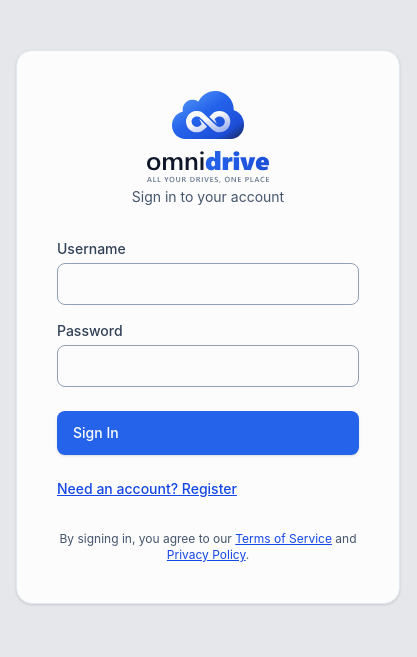
Test case: LoginPage › shows generic "Authentication failed" message when thrown value is not an Error
This screenshot has width=417, height=657.
Type "alice" into the field labelled "Username".
click(208, 284); type("alice")  # box [57,263,359,305]
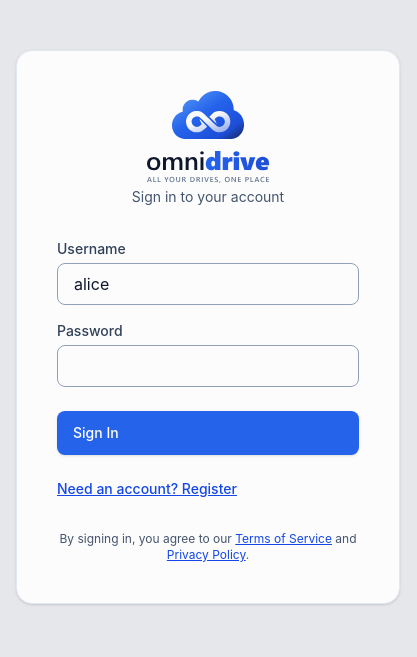
Type "wrong" into the password field labelled "Password".
click(208, 366); type("wrong")  # box [57,345,359,387]
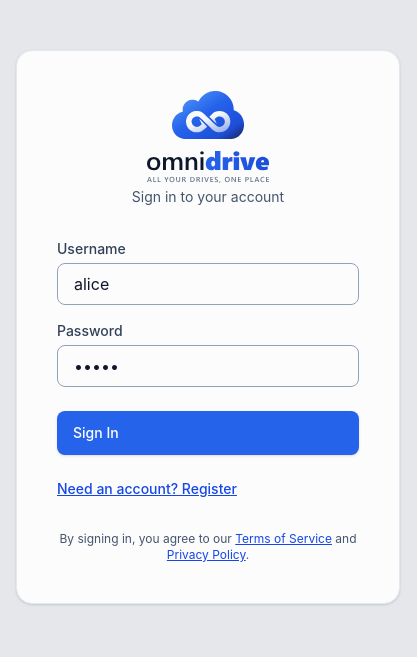
Click the button "Sign In".
click(96, 432)  # box [57,411,359,455]
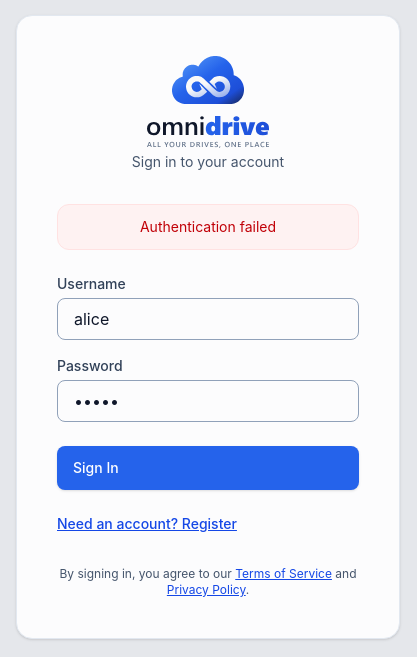
Expected: the text "Authentication failed" is shown, [57,204,359,250]
